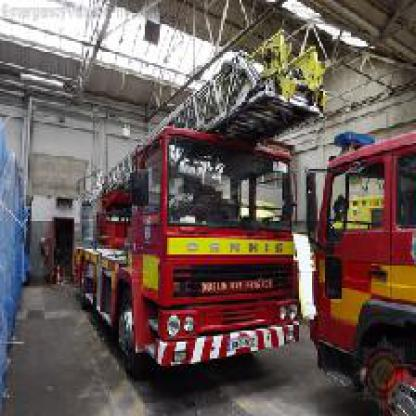emergency: (58, 145, 336, 401)
